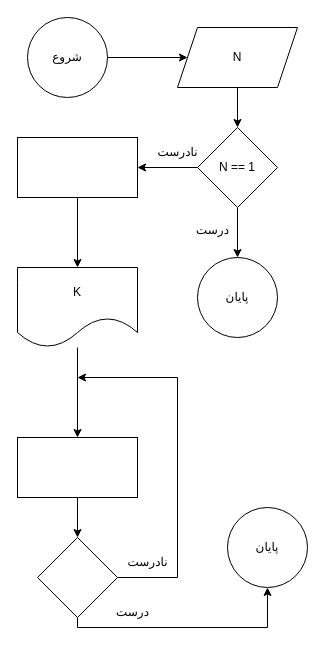
This 325x653 diagram has some shape labels left out. Each missing label, with the centre of its shape:
"K <= N" goes at pixel 77 577.
"K ← 2" goes at pixel 77 167.
"K ← K + 2" goes at pixel 77 467.
